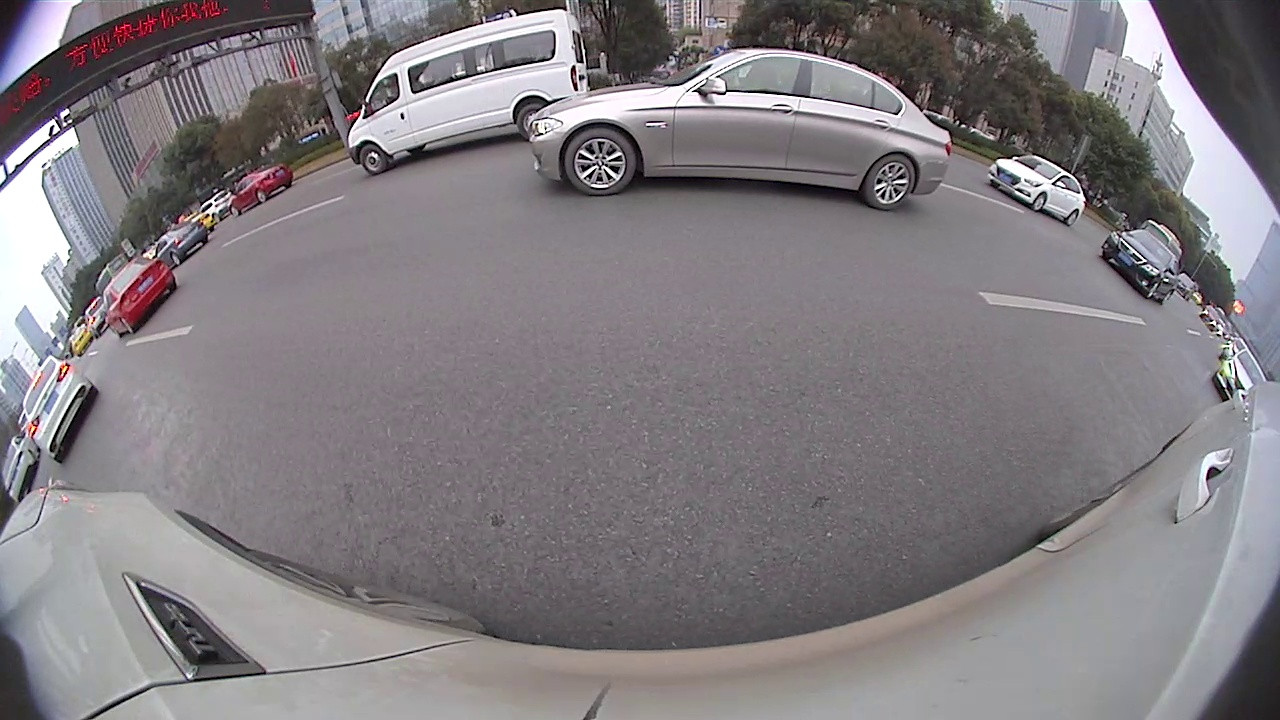car: (530, 51, 947, 210), (345, 8, 592, 174), (20, 358, 100, 464), (988, 154, 1086, 228), (1102, 227, 1180, 305), (103, 258, 177, 337), (225, 166, 294, 218), (1212, 349, 1264, 404), (156, 223, 208, 260)
front: (561, 127, 639, 197), (358, 142, 388, 174), (1031, 191, 1048, 214), (1146, 280, 1160, 298), (231, 206, 238, 218)
rear: (864, 156, 915, 209), (1067, 209, 1080, 226), (171, 253, 183, 266), (257, 190, 267, 205)
